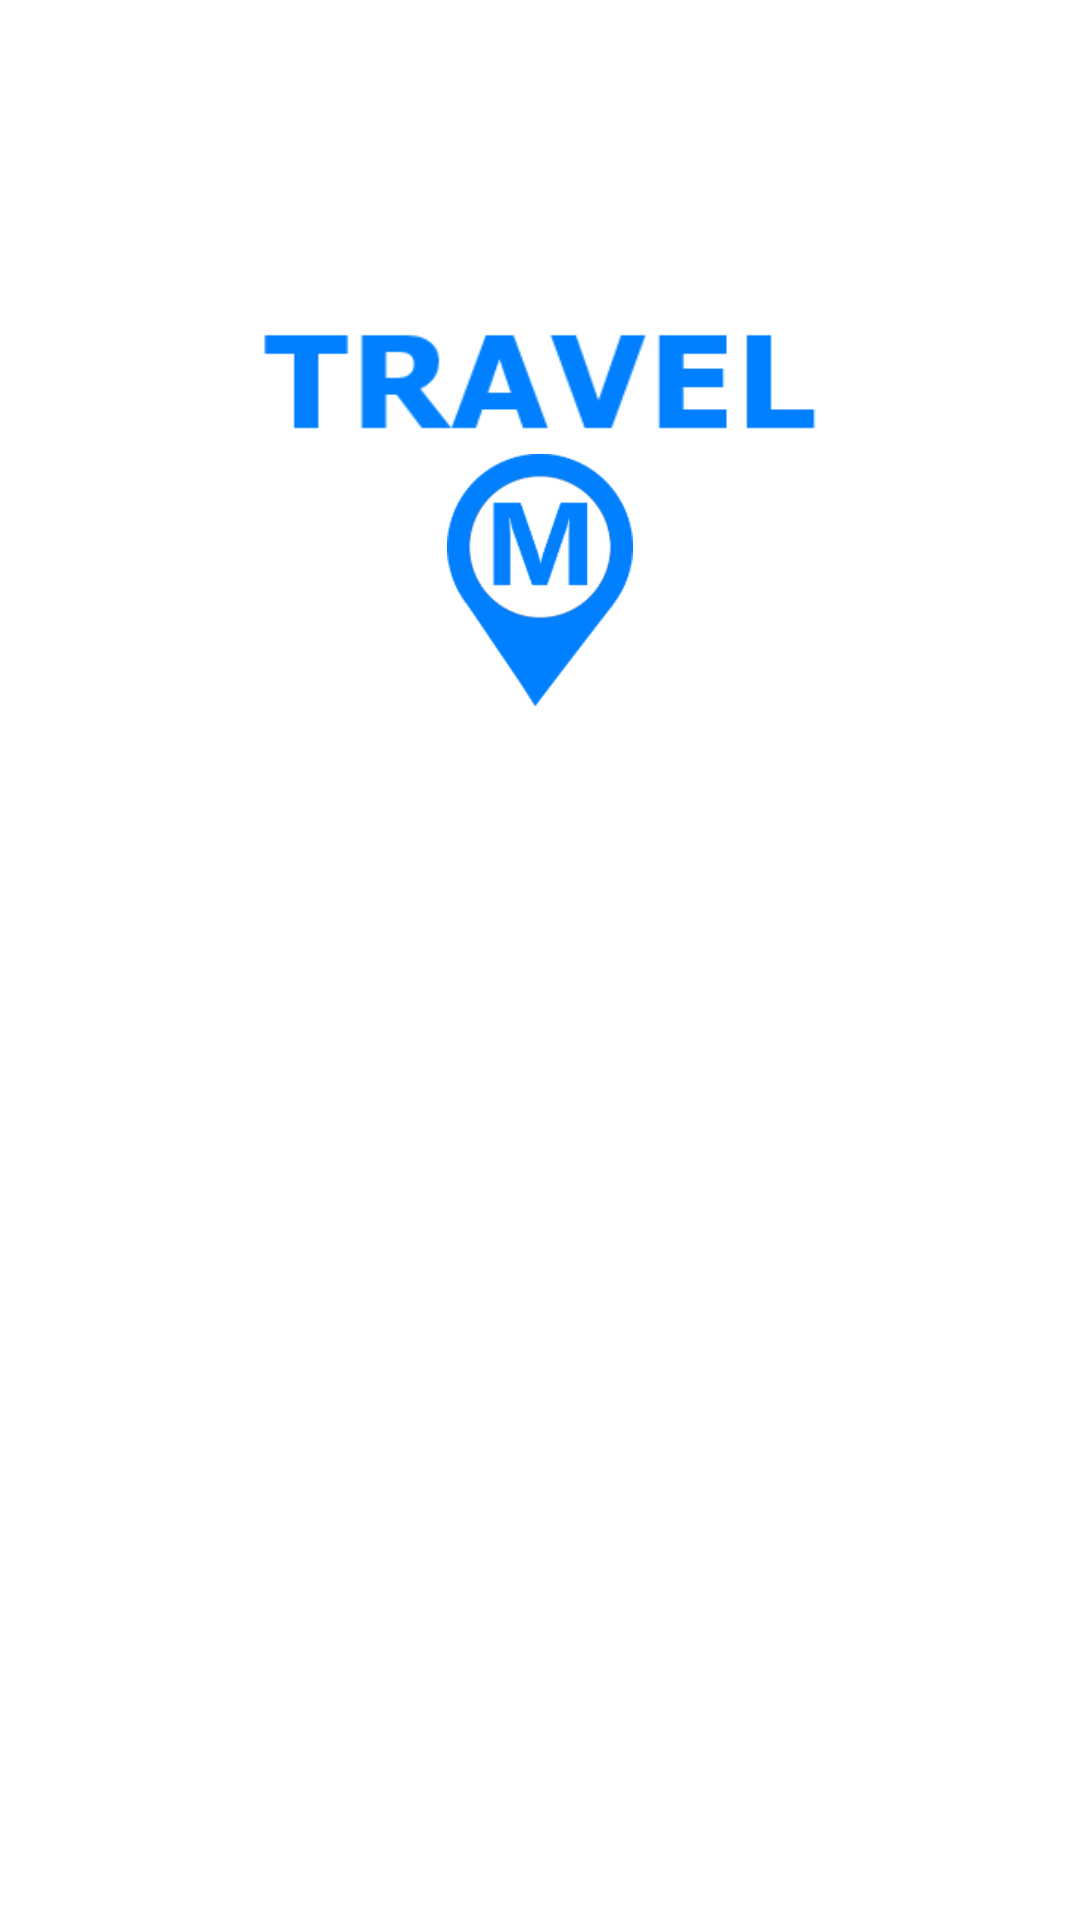

Named icons in this screenshot (1080 × 1920) and their centers, (x=x, y=y):
gpsmia: (x=540, y=580)
